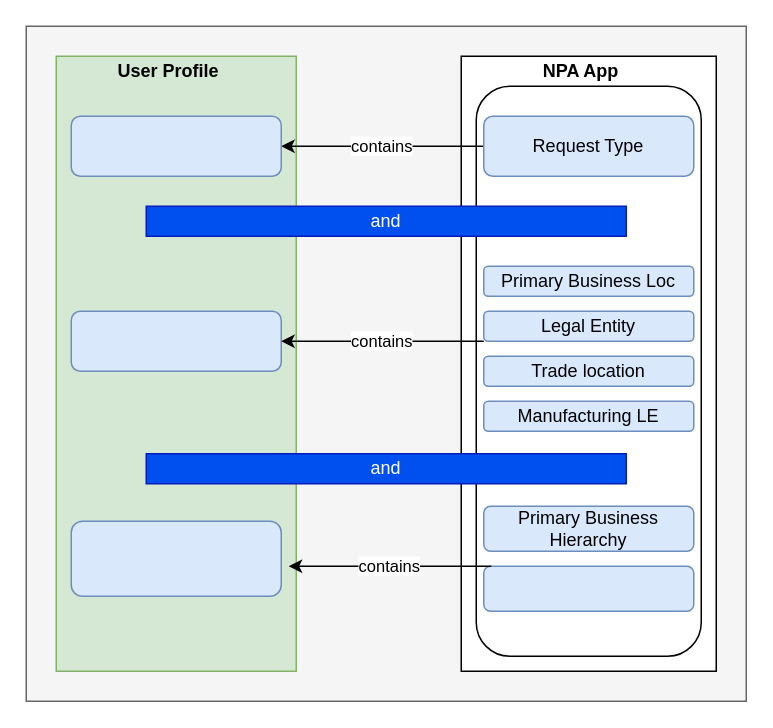
Image size: 773x728. Some labels were removed from this diagram. Here are the shapes that lost their labels. From the top down, the centre of each, then its label:
point (175, 145): Has Role to "View NTA requests"
point (175, 340): Has Resource with specific location
point (175, 558): Has Resource with specific business hierarchy
point (588, 588): Secondary Business Hierarchy
